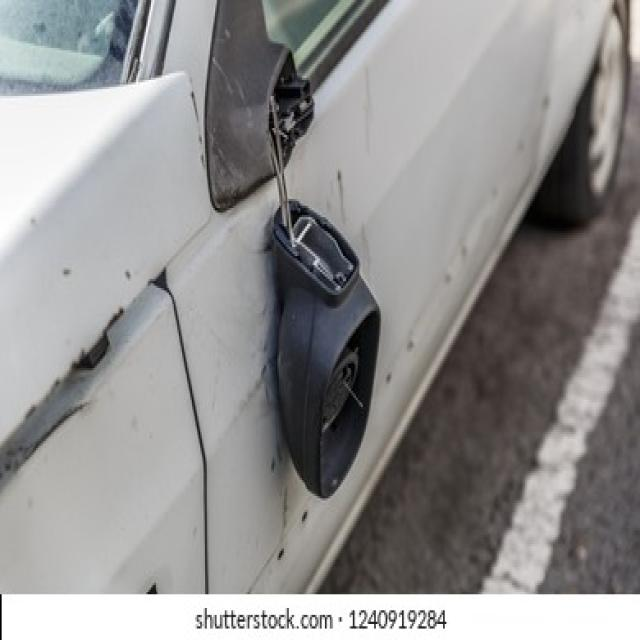crack: (262, 41, 384, 500)
missing: (345, 94, 550, 485), (252, 486, 344, 597)
scratch: (3, 291, 131, 482), (189, 87, 208, 169), (333, 165, 346, 218)
